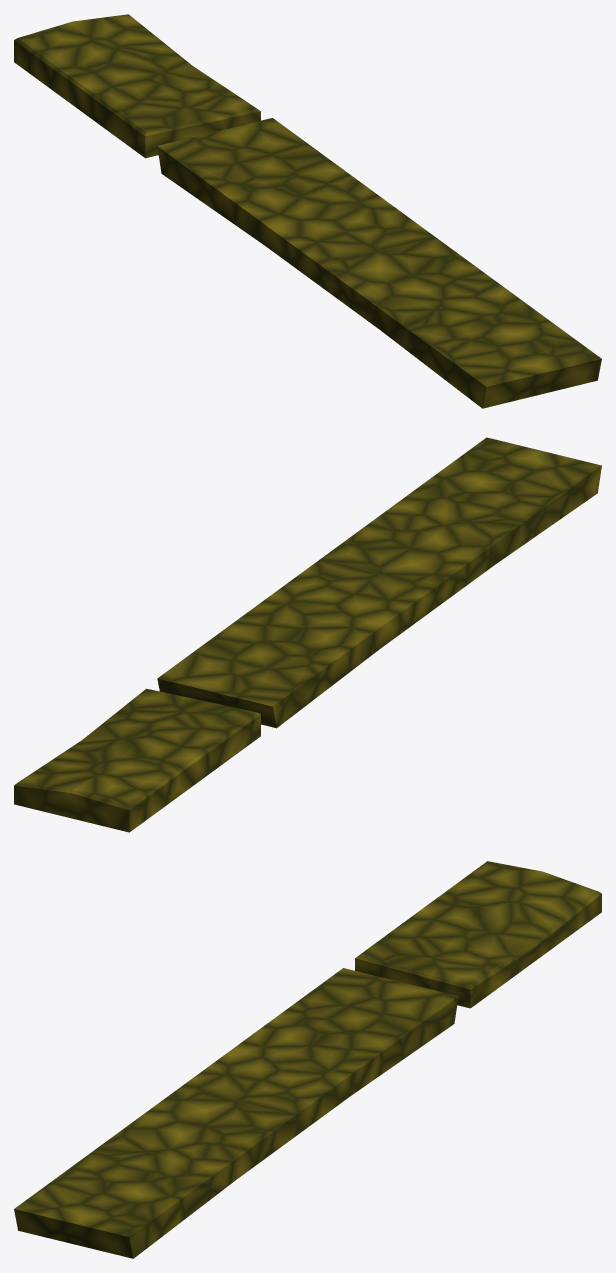
The model's file is platform.fbx.
3 renders of one model, top to bottom at view 1: azimuth 30°, elevation 25°; view 2: azimuth 150°, elevation 25°; view 3: azimuth 330°, elevation 25°, orthographic.
Visible parts, largest first — view 1: float, right, mid, left; view 2: float, left, mid, right; view 3: float, right, mid, left.
Boxes of the visible parts, <box> form: float: <box>14,14,260,158</box>; right: <box>379,280,601,408</box>; mid: <box>264,196,494,329</box>; left: <box>157,118,379,244</box>; float: <box>14,688,260,832</box>; left: <box>157,600,379,728</box>; mid: <box>264,516,494,648</box>; right: <box>380,437,601,564</box>; float: <box>355,861,601,1008</box>; right: <box>14,1131,236,1258</box>; mid: <box>121,1046,351,1179</box>; left: <box>237,968,458,1094</box>.
Bounding box in the file's own units: 1146 × 296 × 8126.
Materials: 4 (4 with a texture image).
